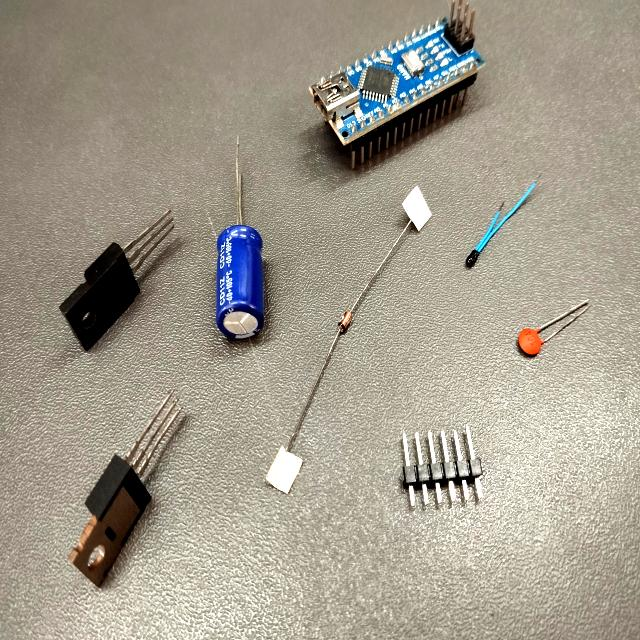capacitor: (206, 224, 270, 349), (511, 318, 554, 368)
